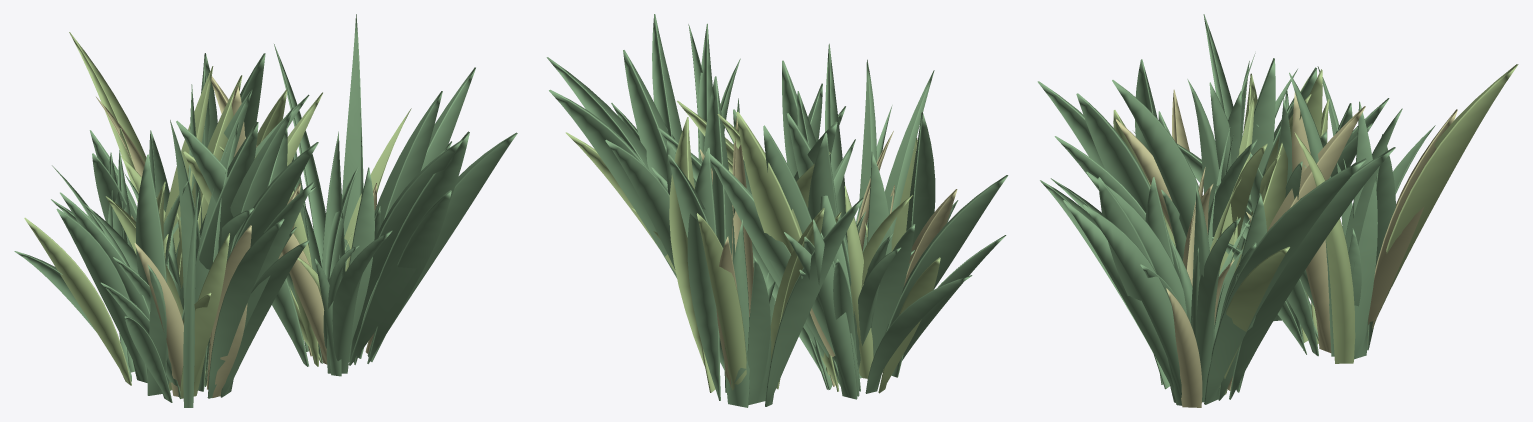
3 views of the same model, side by side, from view 1: azimuth 30°, elevation 25°; view 2: azimuth 150°, elevation 25°; view 3: azimuth 270°, elevation 25° (orthographic). The views are drawn at different scales.
Visible parts, largest first — view 1: wild_grass_spray; view 2: wild_grass_spray; view 3: wild_grass_spray.
Part boxes in pixels (x1,y1,x2,y2): wild_grass_spray: [14, 14, 517, 407]; wild_grass_spray: [546, 14, 1008, 407]; wild_grass_spray: [1037, 14, 1518, 407].
Size of the model in its own units: 1.66 by 1.02 by 1.47.
